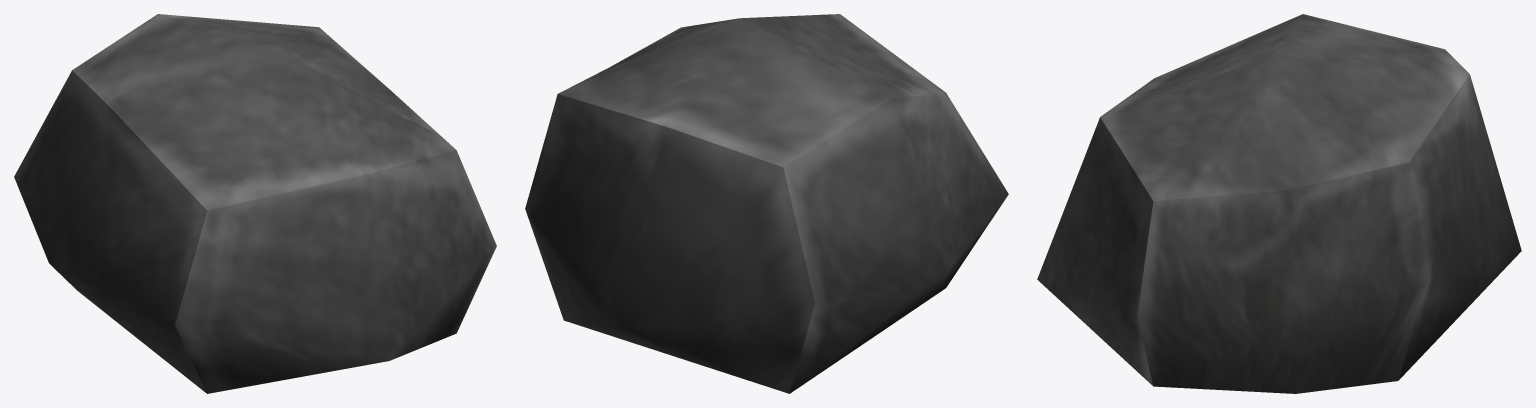
Rendered from modelRock07.fbx.
3 views of the same model, side by side, from view 1: azimuth 30°, elevation 25°; view 2: azimuth 150°, elevation 25°; view 3: azimuth 270°, elevation 25° (orthographic). The views are drawn at different scales.
Parts seen in each view (by area): view 1: modelRock07; view 2: modelRock07; view 3: modelRock07.
Boxes of the visible parts, box(x1,y1,x2,y2) form: modelRock07: box(14, 14, 496, 393); modelRock07: box(525, 14, 1008, 393); modelRock07: box(1037, 14, 1521, 393).
Bounding box in the file's own units: 3.79 × 2.51 × 4.09.
